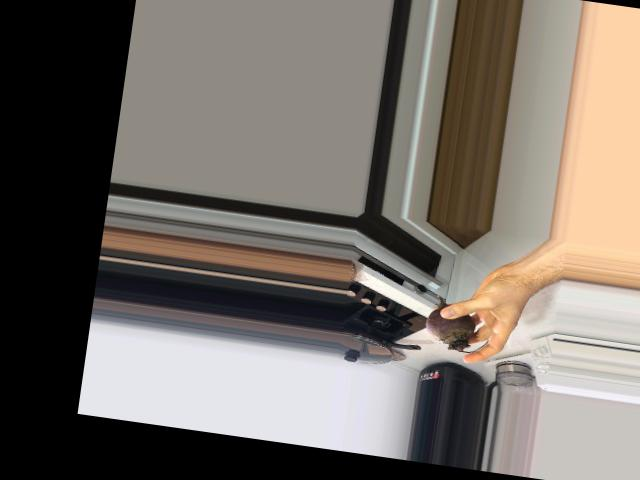beet: (422, 293, 492, 354)
